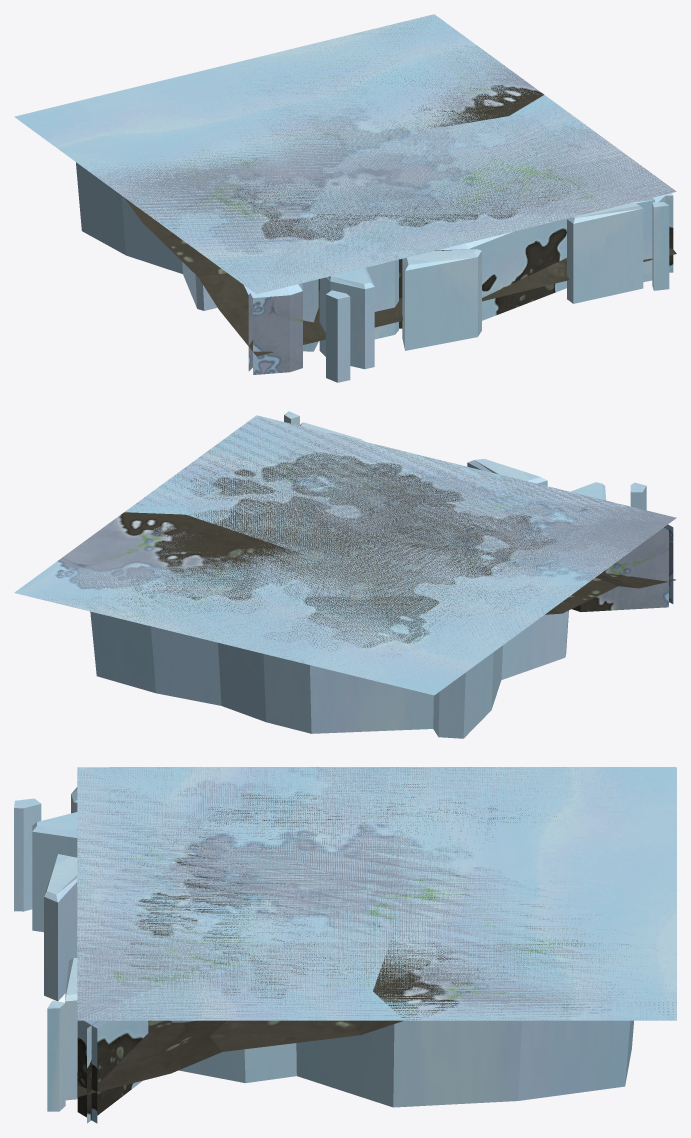
The model's file is snow_ground.FBX.
The picture shows the model from 3 angles, top to bottom: view 1: azimuth 30°, elevation 25°; view 2: azimuth 150°, elevation 25°; view 3: azimuth 270°, elevation 25°; orthographic projection. The views are drawn at different scales.
Parts seen in each view (by area): view 1: snow_groud_loop, snow_groud015, map_06_2, snow_groud09, snow_groud08, snow_groud01, snow_groud021, map_007, snow_groud026, map_05, map_06, snow_groud014 (+4 smaller); view 2: snow_groud021, snow_groud_loop, snow_groud020, map_05, snow_groud03, map_007, map_008, snow_groud09, snow_groud02, snow_groud07, map_06, snow_groud017 (+9 smaller); view 3: snow_groud_loop, snow_groud013, map_05, map_06_2, snow_groud05, snow_groud08, snow_groud02, map_007, snow_groud015, snow_groud021, snow_groud030, snow_groud020 (+7 smaller).
Boxes of the visible parts, x1,y1,x2,y2 form: snow_groud_loop: [14, 14, 598, 194]; snow_groud015: [100, 15, 669, 293]; map_06_2: [248, 195, 669, 382]; snow_groud09: [94, 15, 647, 268]; snow_groud08: [85, 29, 676, 292]; snow_groud01: [282, 29, 673, 281]; snow_groud021: [108, 29, 675, 294]; map_007: [125, 16, 676, 356]; snow_groud026: [91, 110, 676, 287]; map_05: [76, 162, 217, 310]; map_06: [244, 193, 673, 371]; snow_groud014: [119, 29, 543, 282]; snow_groud021: [46, 415, 666, 690]; snow_groud_loop: [18, 520, 592, 695]; snow_groud020: [125, 416, 646, 654]; map_05: [90, 610, 568, 738]; snow_groud03: [53, 452, 676, 687]; map_007: [14, 512, 675, 614]; map_008: [15, 514, 617, 614]; snow_groud09: [34, 420, 637, 611]; snow_groud02: [84, 418, 654, 608]; snow_groud07: [48, 419, 615, 694]; map_06: [572, 527, 668, 611]; snow_groud017: [79, 427, 559, 681]; snow_groud_loop: [77, 767, 676, 1020]; snow_groud013: [77, 768, 676, 1020]; map_05: [171, 1020, 633, 1107]; map_06_2: [14, 787, 627, 1123]; snow_groud05: [77, 767, 630, 1020]; snow_groud08: [77, 767, 605, 1020]; snow_groud02: [77, 767, 668, 1020]; map_007: [77, 934, 676, 1097]; snow_groud015: [77, 767, 571, 1019]; snow_groud021: [77, 767, 675, 1020]; snow_groud030: [77, 767, 546, 1020]; snow_groud020: [77, 767, 582, 1020].
Bounding box in the file's own units: 1500 × 285 × 1659.
